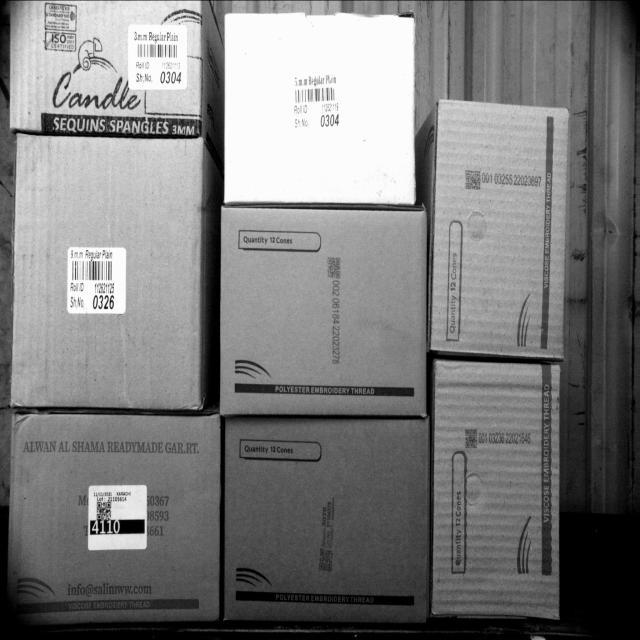box: (12, 137, 205, 411), (12, 410, 220, 622), (220, 204, 427, 414), (224, 417, 428, 626), (224, 11, 416, 202), (431, 103, 567, 358), (433, 363, 559, 616), (8, 0, 210, 134)
